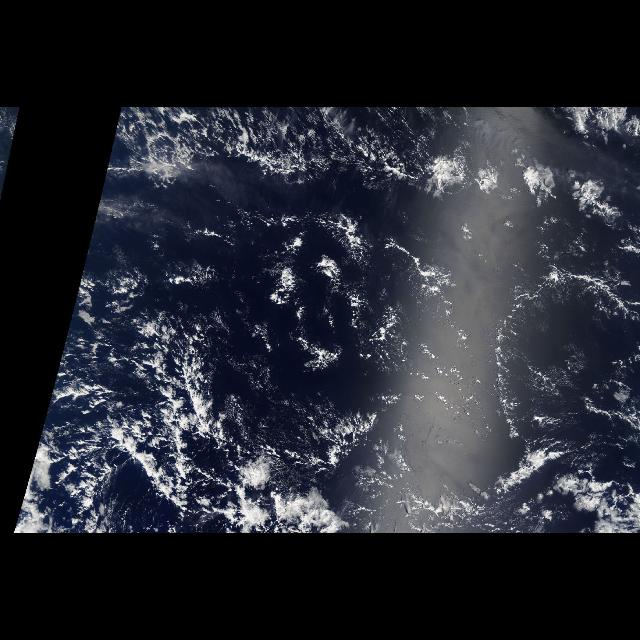Fish: (36, 322, 370, 534), (97, 109, 417, 210)
Gravel: (68, 322, 280, 530), (475, 246, 639, 482), (124, 110, 406, 180)
